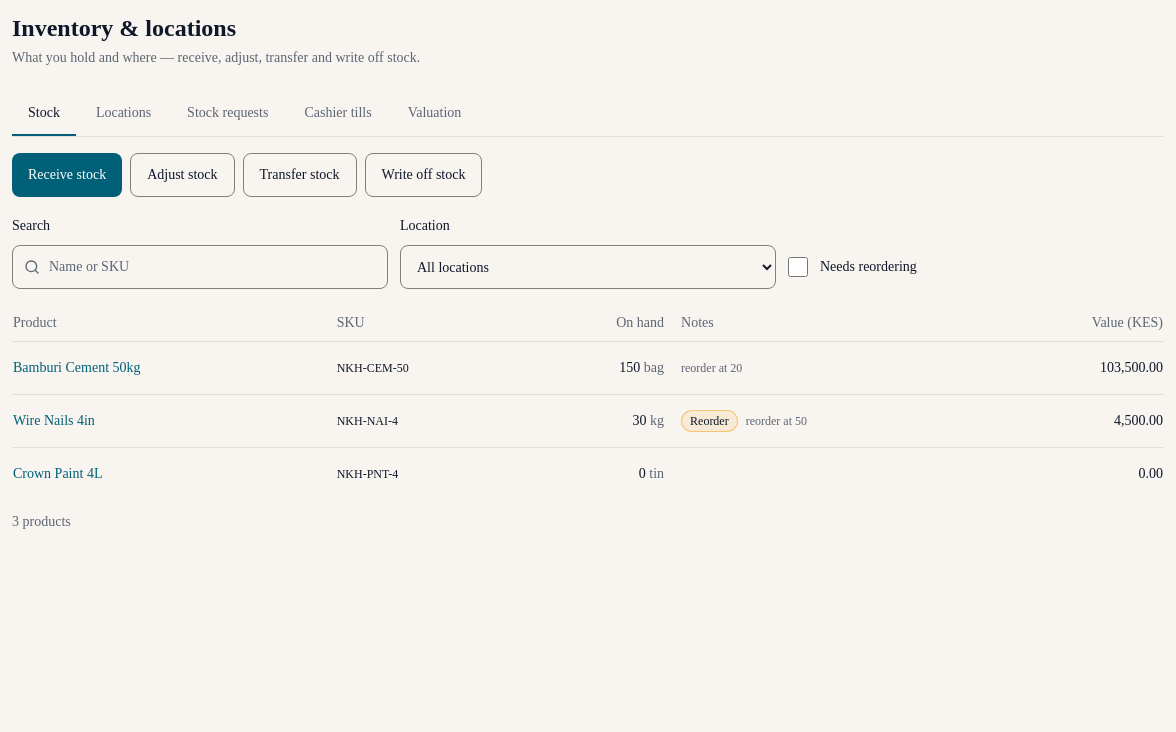
the stock list › one location shows what that location owns
Expected: the table named "Stock" is shown, [12,305,1164,500]
Select "Till 1" in the dropdown labelled "Location" at (588, 267), box [400,245,776,289]
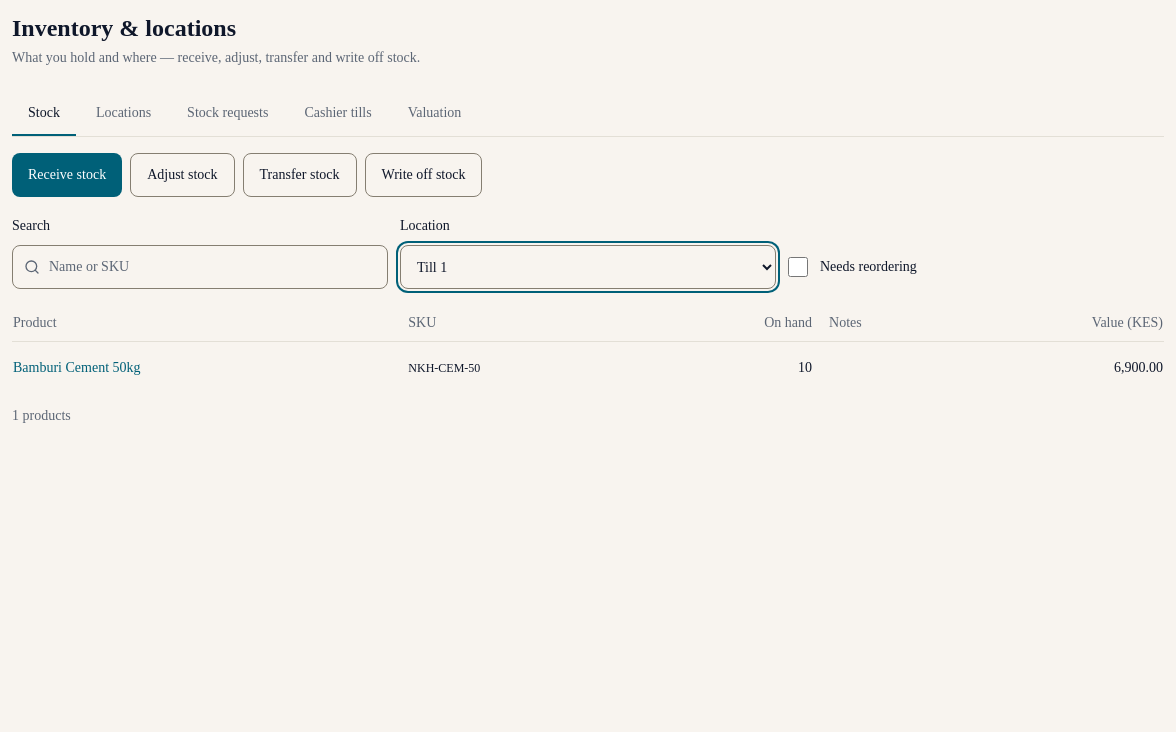
Expected: the number of rows is 2, [12,305,1164,342]; [12,342,1164,394]
Expected: the row "Bamburi Cement 50kg NKH-CEM-50 10 6,900.00" is shown, [12,342,1164,394]
